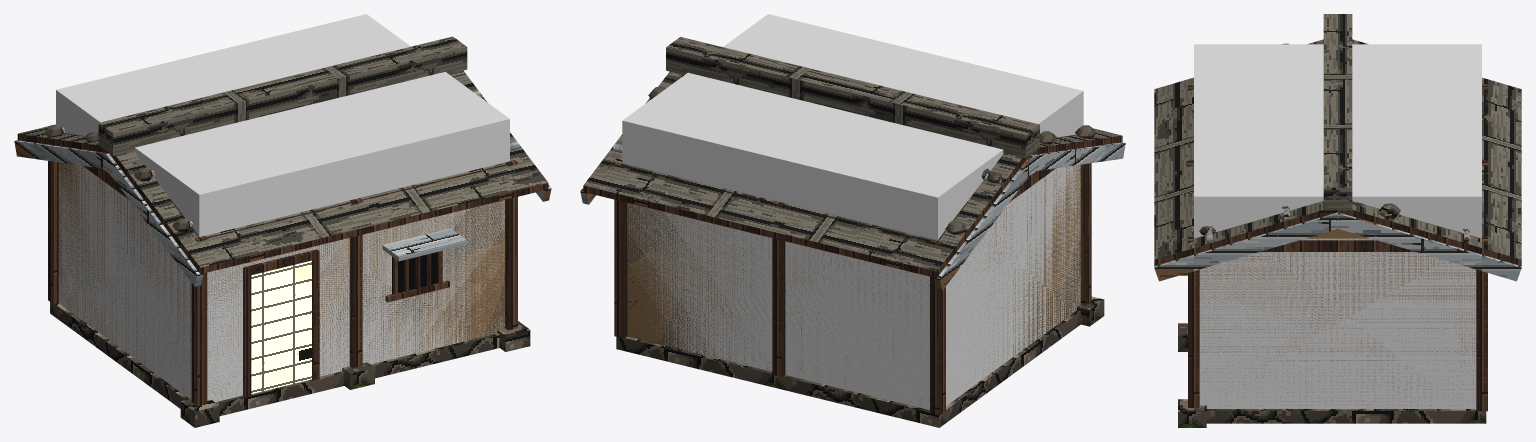
File: JP_Poor_Hut_B.glb
3 views of the same model, side by side, from view 1: azimuth 30°, elevation 25°; view 2: azimuth 150°, elevation 25°; view 3: azimuth 270°, elevation 25° (orthographic).
Parts seen in each view (by area): view 1: COL_JP_Poor_Hut_B, JP_Poor_Hut_B; view 2: COL_JP_Poor_Hut_B, JP_Poor_Hut_B; view 3: COL_JP_Poor_Hut_B, JP_Poor_Hut_B.
Boxes of the visible parts, x1,y1,x2,y2 form: COL_JP_Poor_Hut_B: [56, 14, 509, 402]; JP_Poor_Hut_B: [14, 36, 551, 427]; COL_JP_Poor_Hut_B: [622, 14, 1083, 410]; JP_Poor_Hut_B: [580, 37, 1125, 427]; COL_JP_Poor_Hut_B: [1194, 44, 1481, 408]; JP_Poor_Hut_B: [1154, 14, 1521, 427].
Bounding box in the file's own units: 5.7 × 3.75 × 5.1.
7 materials, 7 textured.
